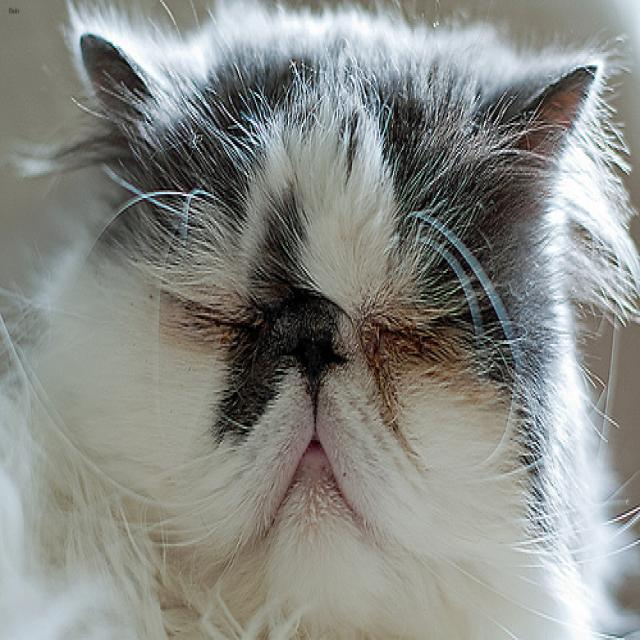Persian: (41, 3, 607, 590)
